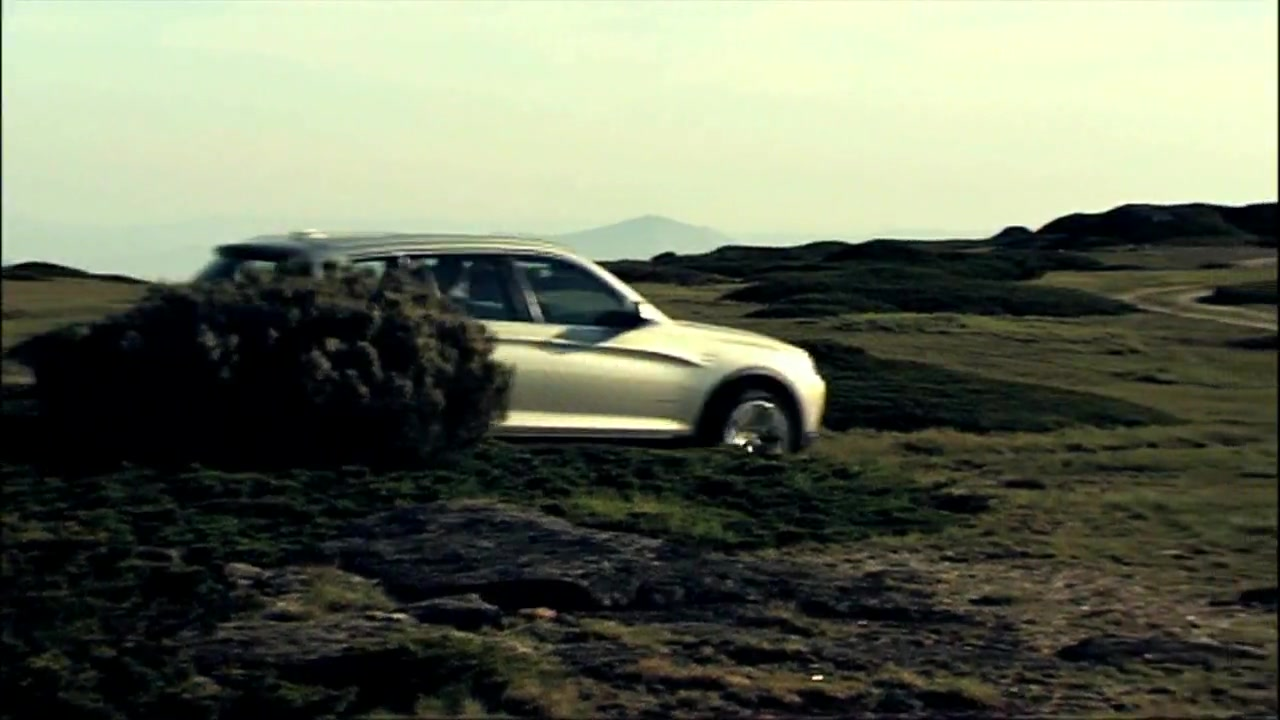car: (202, 229, 827, 466)
